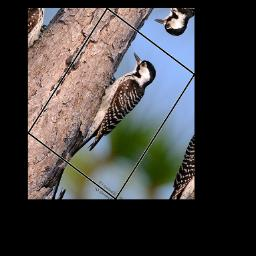Woodpecker: (60, 43, 164, 180)
